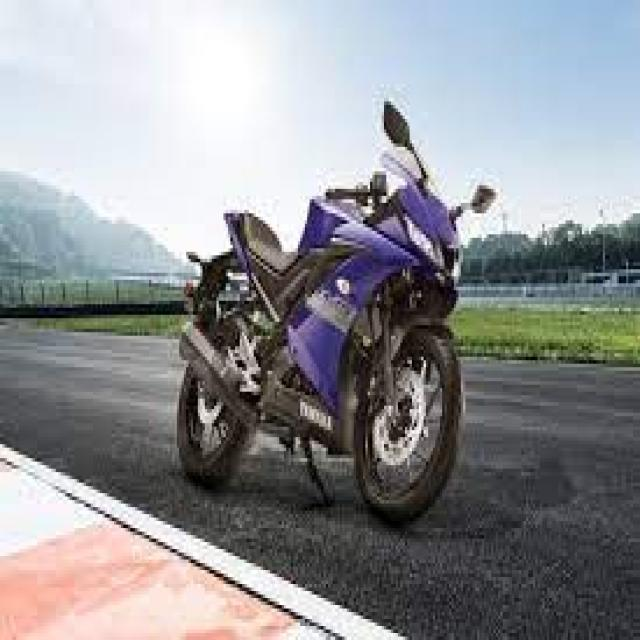Bike: (176, 96, 499, 528)
